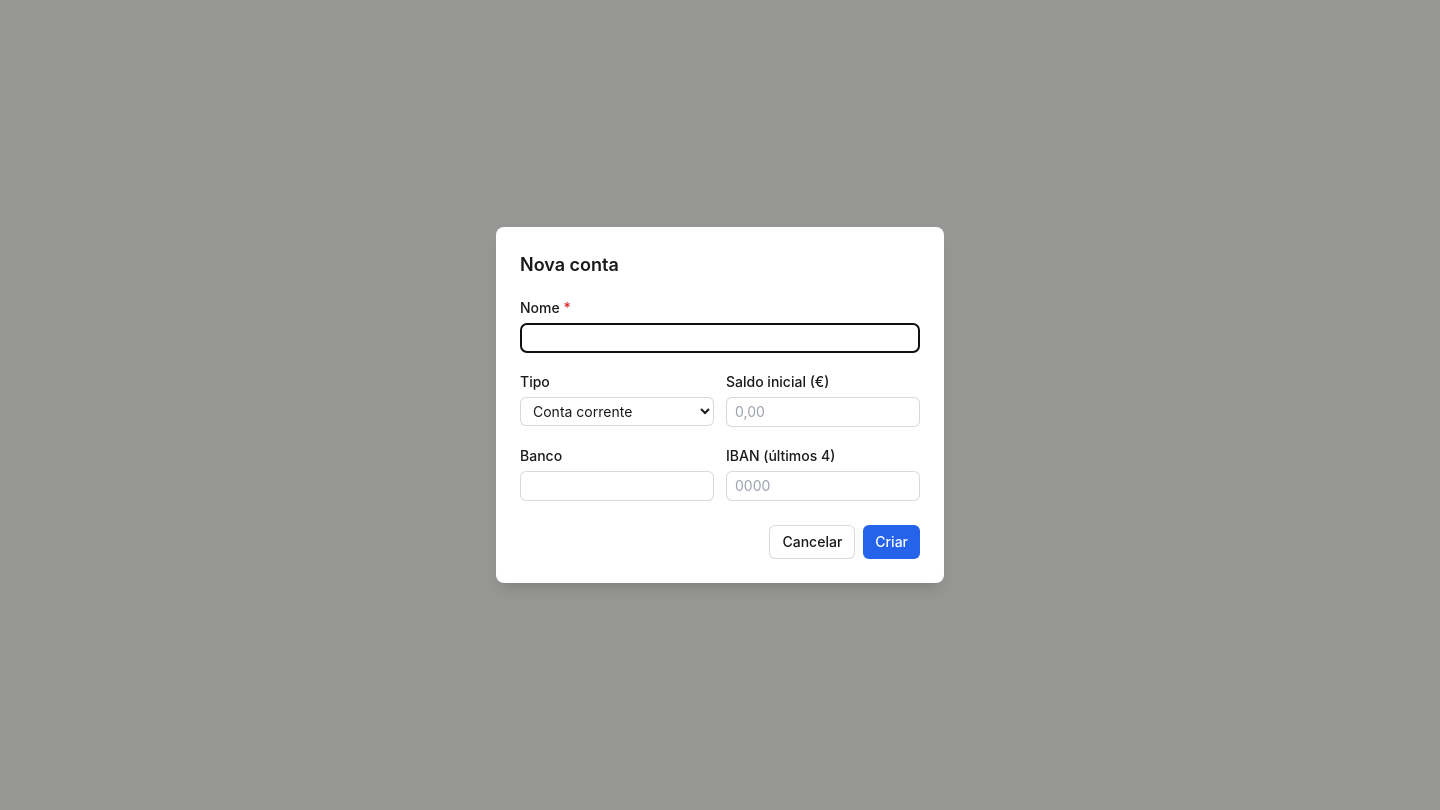
<NewAccountModal> › saldo inicial inválido bloqueia submit e mostra erro — sem POST
Type "CGD" into the field named "Nome da conta" at (720, 338), box left=520, top=323, right=920, bottom=353
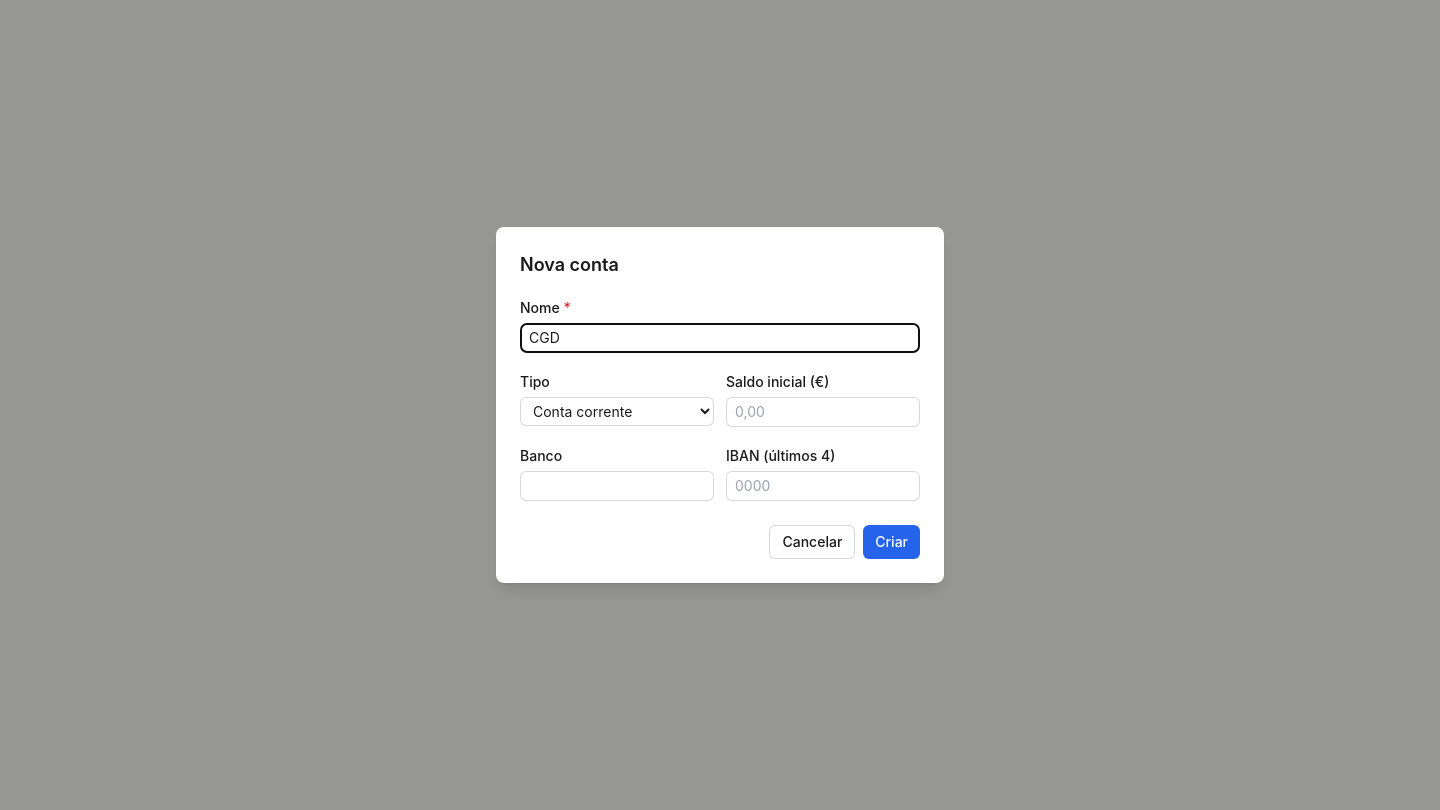
Type "abc" into the field named "Saldo inicial em euros" at (823, 412), box left=726, top=397, right=920, bottom=427
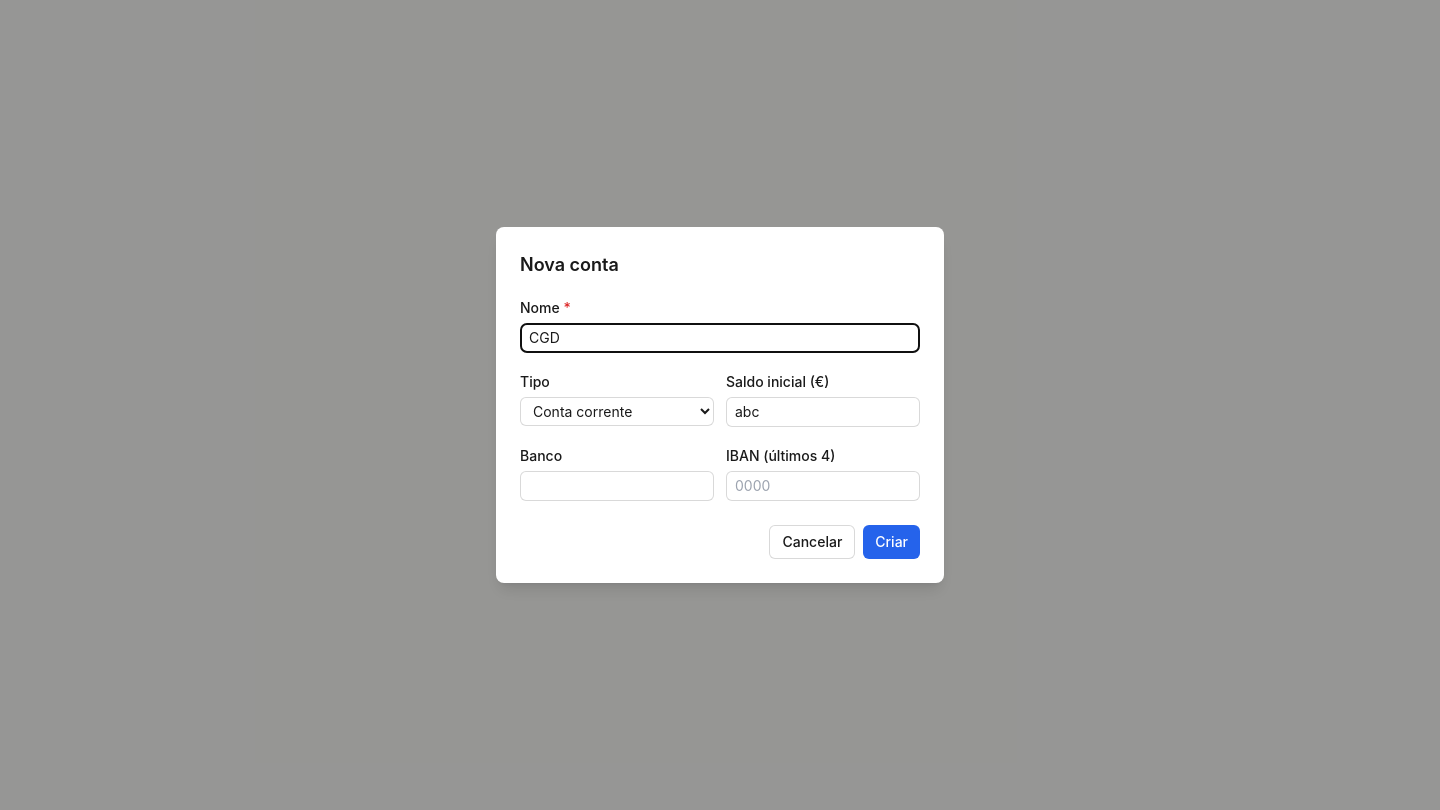
Click the button "Criar" at (892, 542), box left=863, top=525, right=920, bottom=559
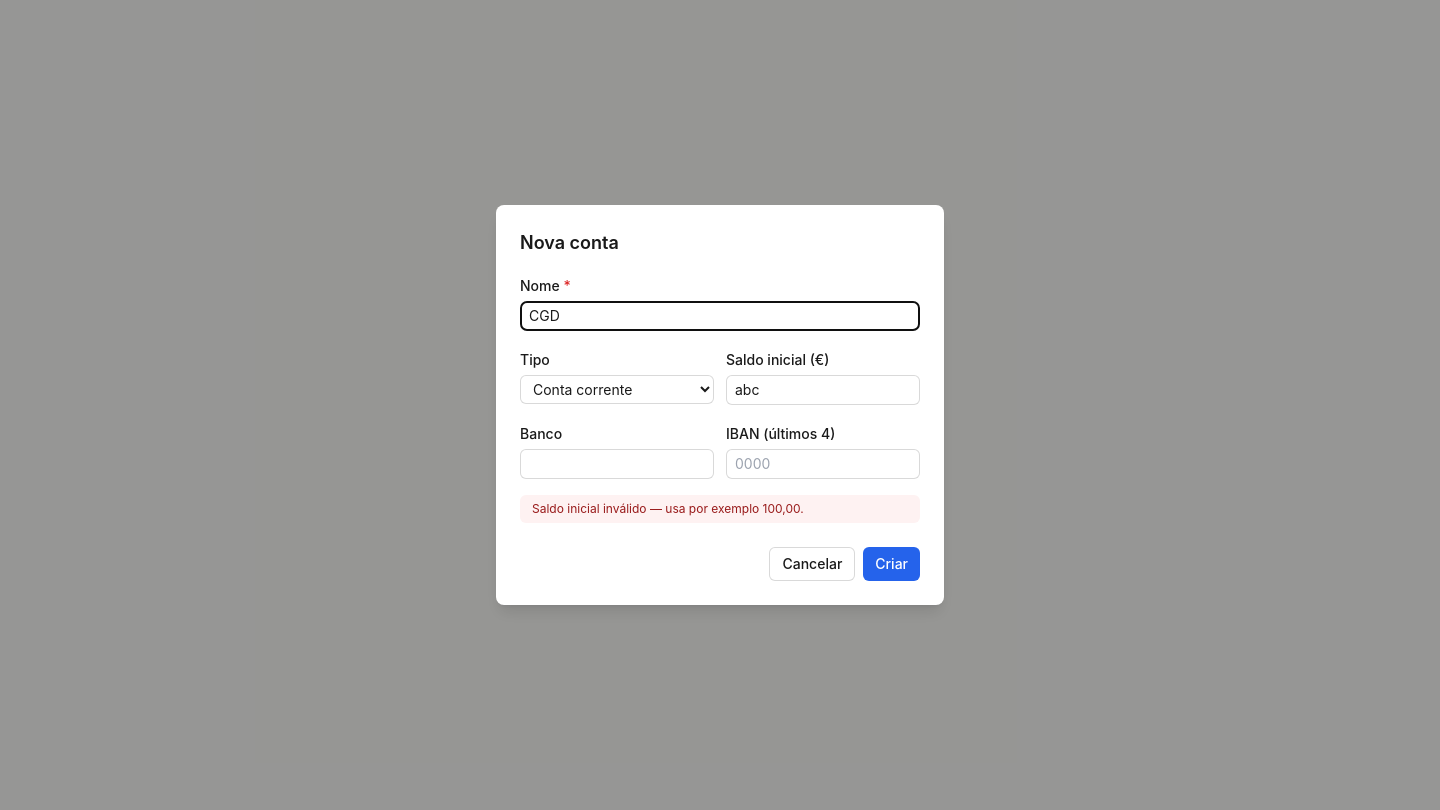
Now the message shows "Saldo inicial inválido", box left=532, top=501, right=804, bottom=516
